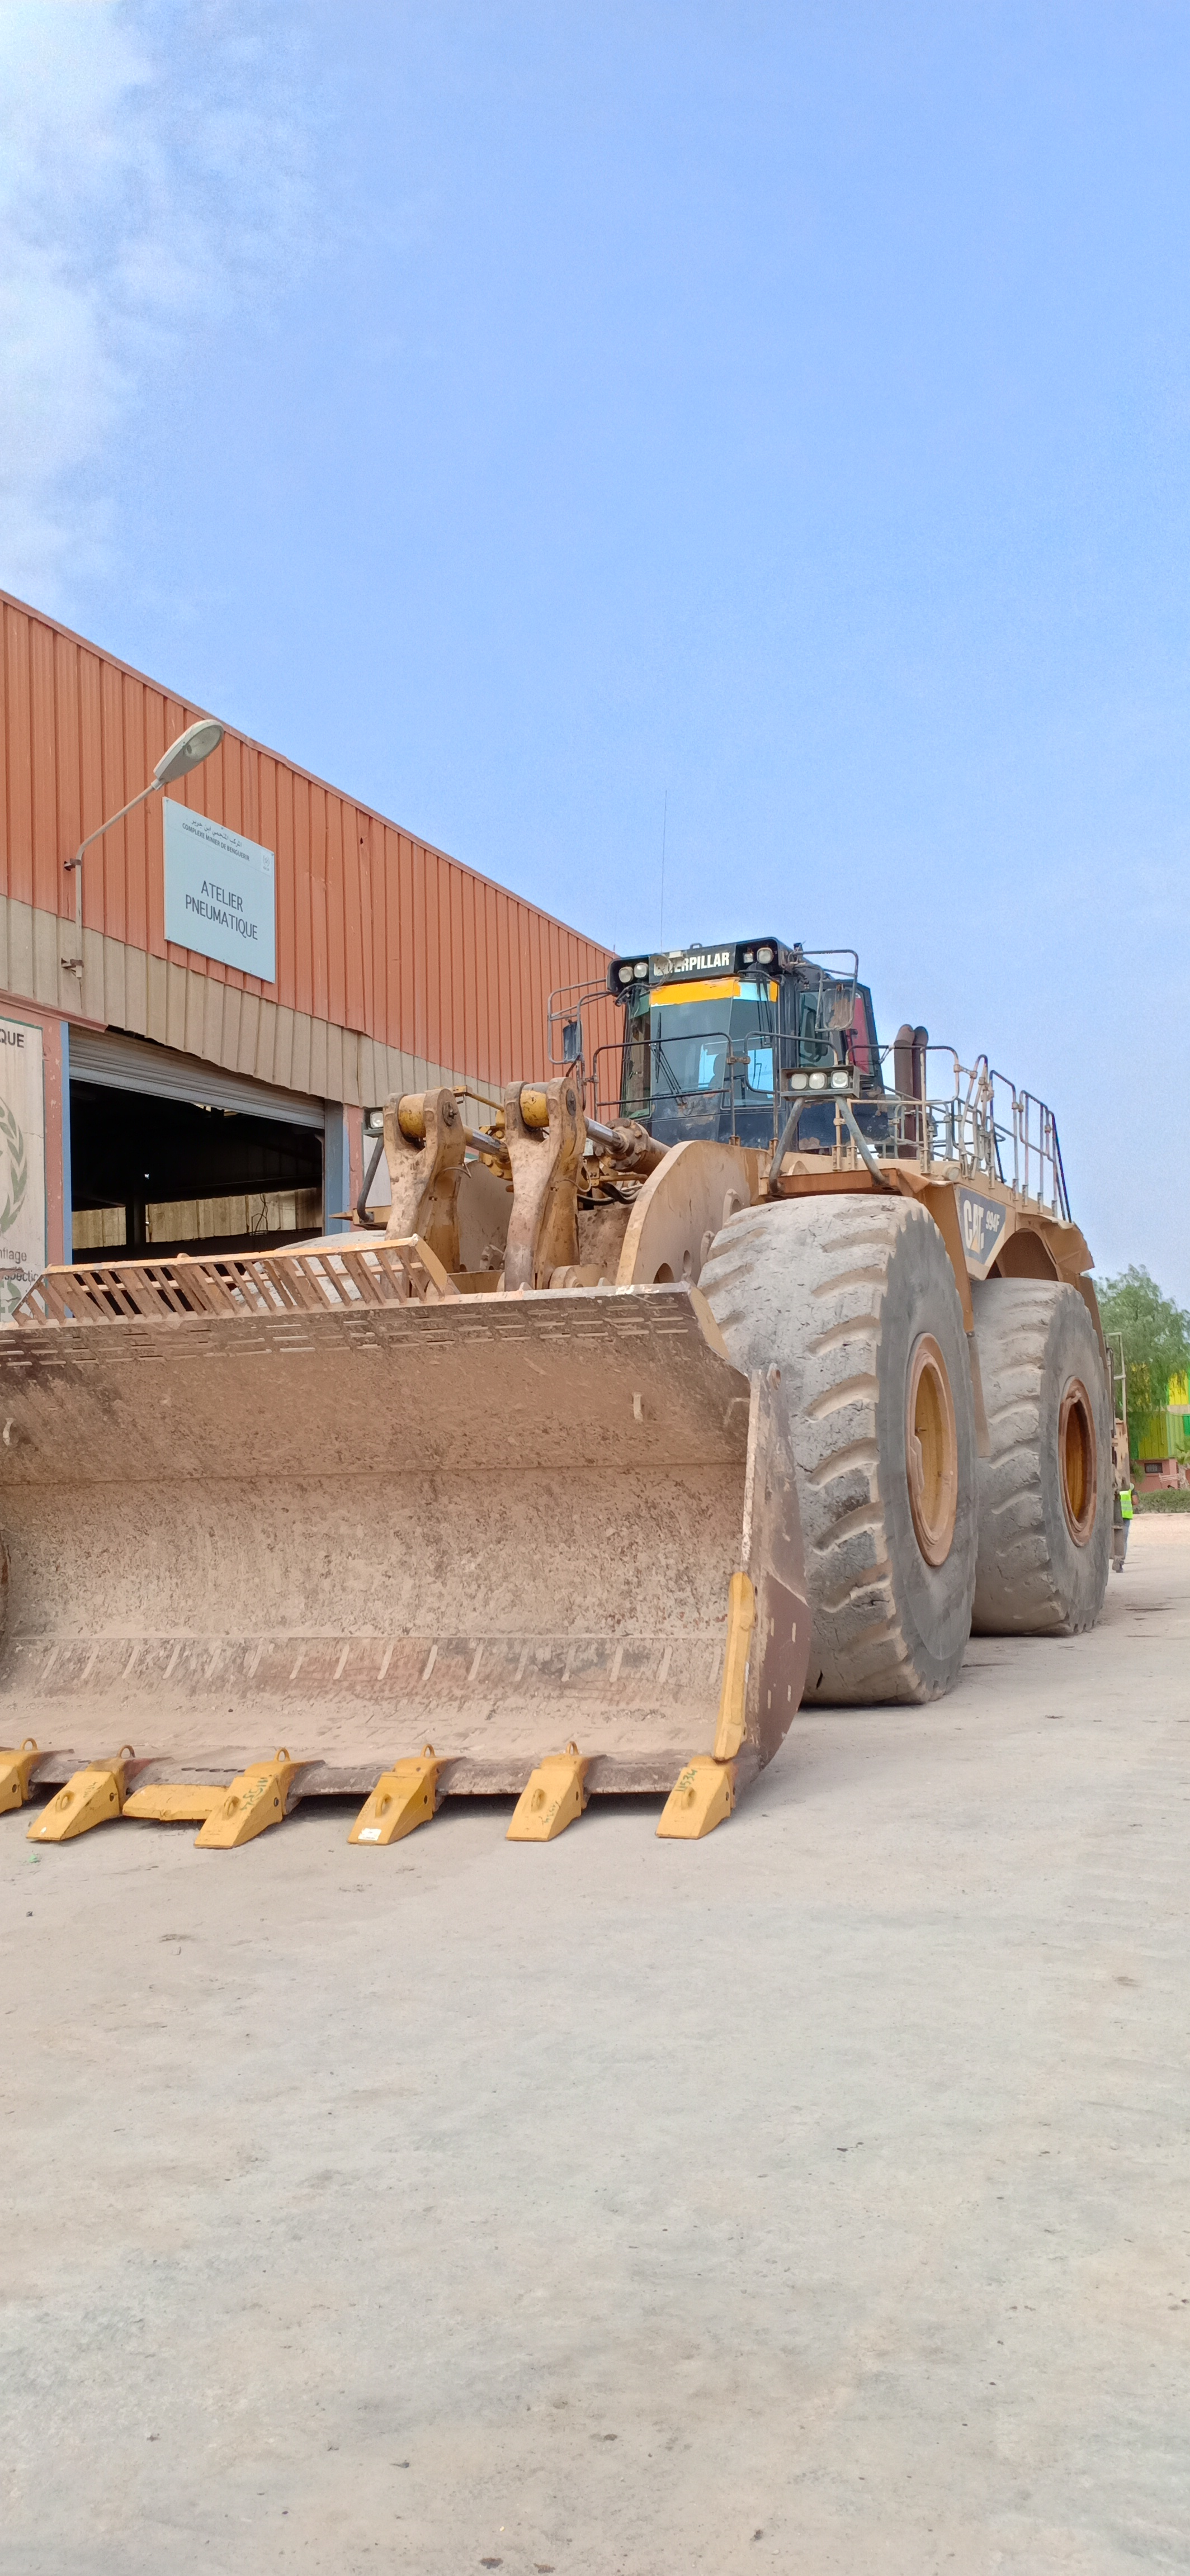chargeuse: (0, 917, 1149, 1917)
